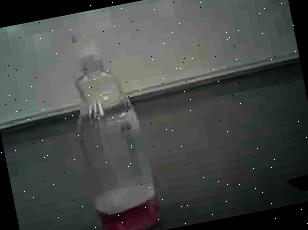hazard: (48, 8, 182, 230)
